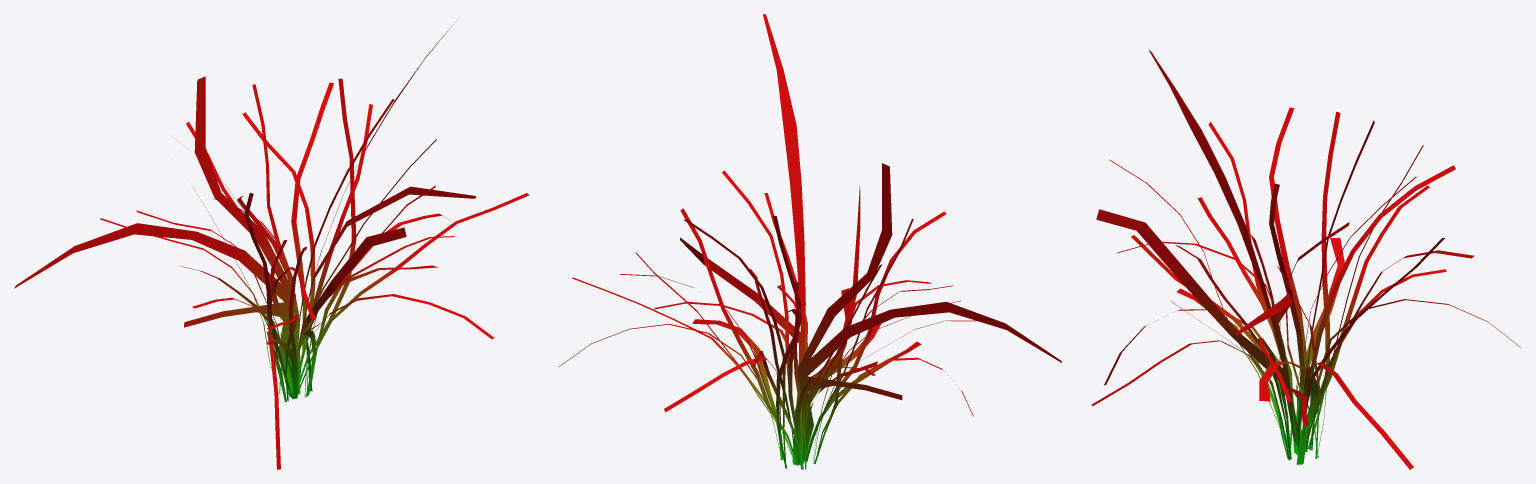
File: Grass_A_Var4.FBX
3 renders of one model, left to right at view 1: azimuth 30°, elevation 25°; view 2: azimuth 150°, elevation 25°; view 3: azimuth 270°, elevation 25°, orthographic. The views are drawn at different scales.
Parts seen in each view (by area): view 1: Grass_A_Var4_LOD00; view 2: Grass_A_Var4_LOD00; view 3: Grass_A_Var4_LOD00.
Boxes of the visible parts, x1,y1,x2,y2 form: Grass_A_Var4_LOD00: (14,20,529,469); Grass_A_Var4_LOD00: (558,14,1061,469); Grass_A_Var4_LOD00: (1091,50,1520,469).
Size of what is drawn, in the model's own units: 86.13 by 64.37 by 54.32.
